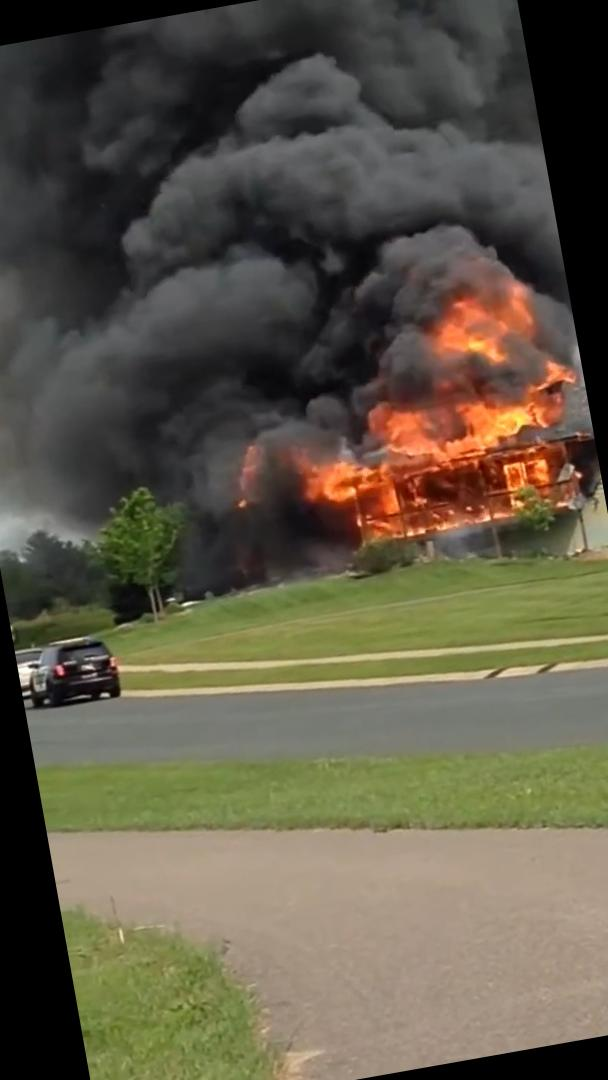Fire: (214, 259, 608, 598)
Smoke: (0, 0, 576, 437)
